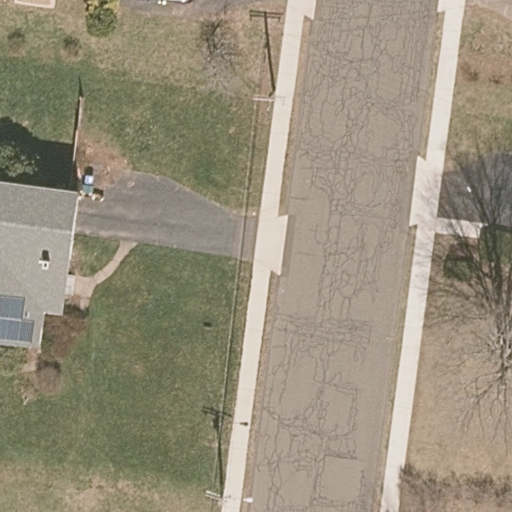DT: (202, 485, 254, 507), (251, 89, 286, 111)
